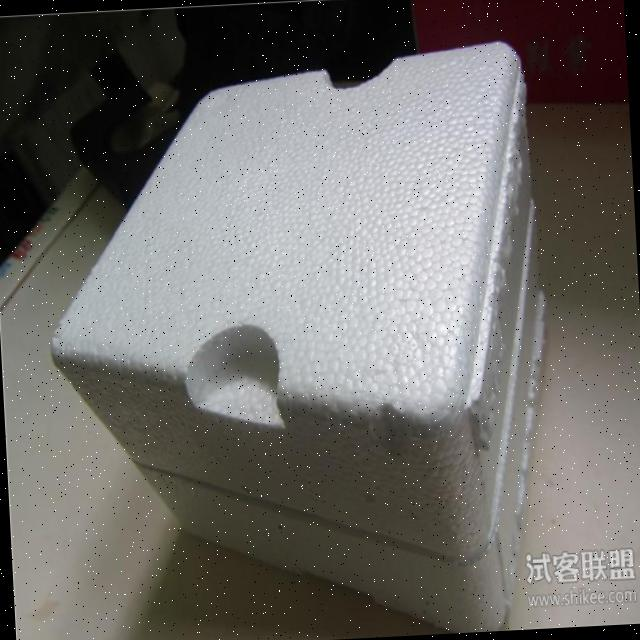styrofoam: (33, 35, 564, 640)
